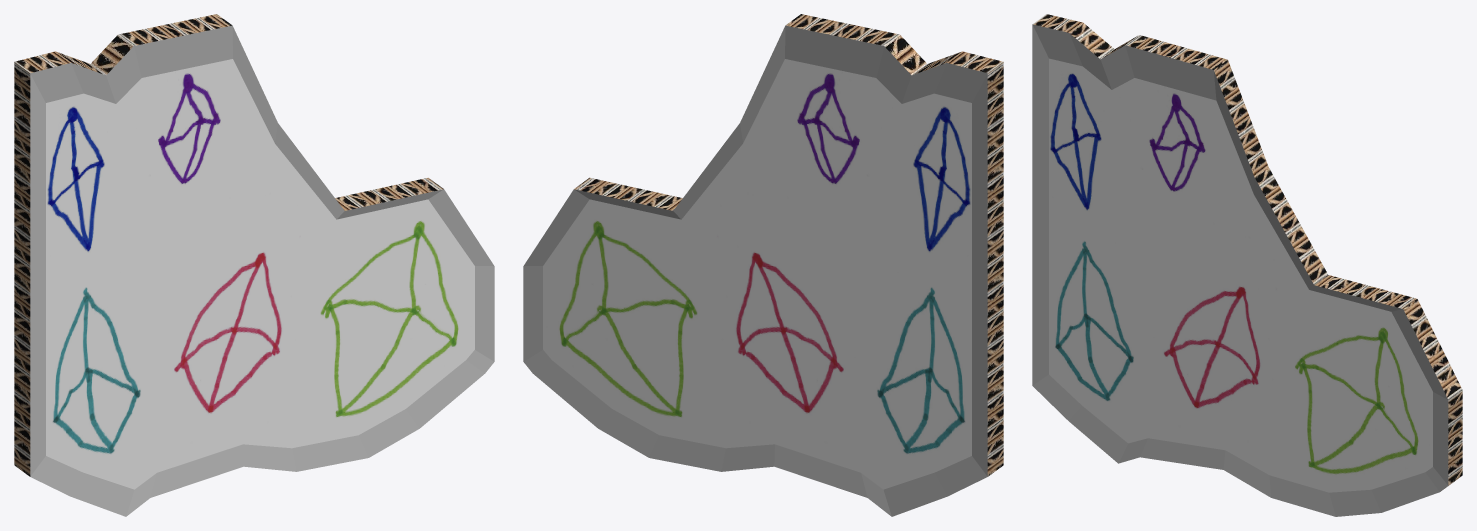
Rendered from Leijat.fbx.
The picture shows the model from 3 angles, left to right: view 1: azimuth 30°, elevation 25°; view 2: azimuth 150°, elevation 25°; view 3: azimuth 330°, elevation 25°; orthographic projection. The views are drawn at different scales.
Parts seen in each view (by area): view 1: Leijat; view 2: Leijat; view 3: Leijat.
Part boxes in pixels (x1,y1,x2,y2): Leijat: [14, 14, 494, 516]; Leijat: [523, 14, 1003, 516]; Leijat: [1032, 14, 1462, 516].
Bounding box in the file's own units: 217 × 209 × 12.73.
